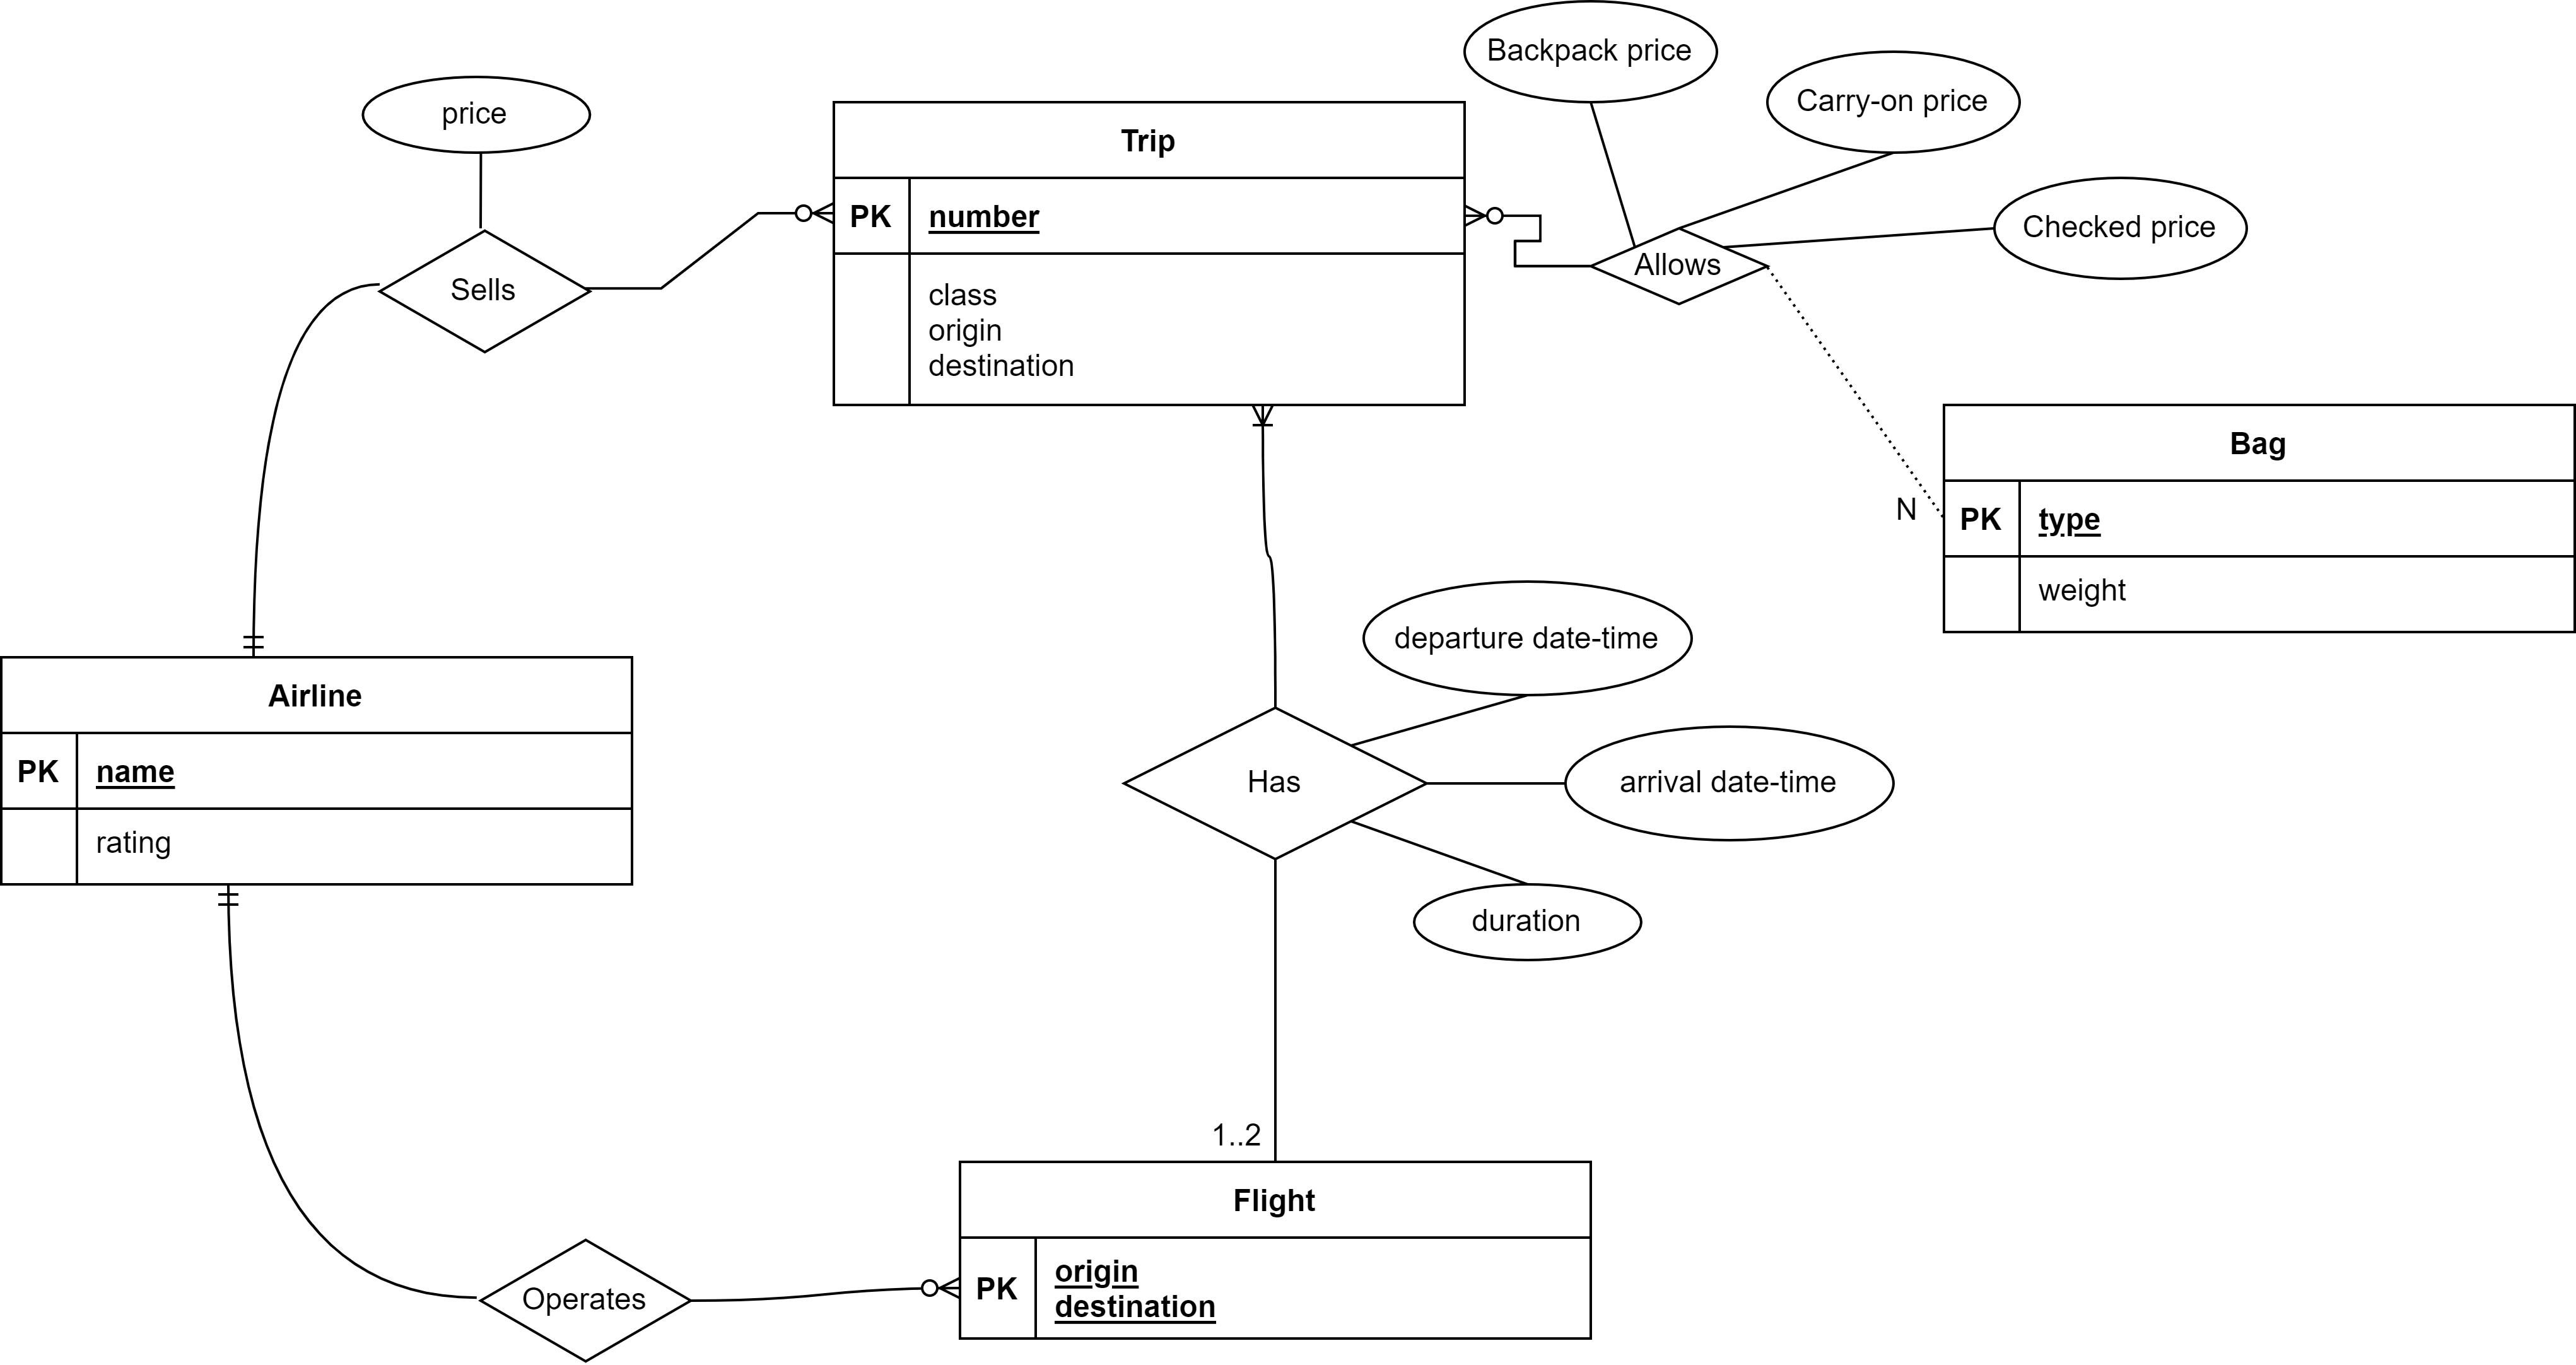attribute: (1564, 723, 1895, 842), (1366, 581, 1693, 697), (1765, 44, 2015, 155), (1463, 0, 1721, 106), (1997, 181, 2251, 283), (365, 77, 595, 155), (1409, 886, 1641, 963)
entity: (830, 95, 1470, 411), (0, 654, 634, 891), (1939, 404, 2574, 636), (956, 1155, 1595, 1339)
relationship: (1113, 707, 1426, 859), (482, 1239, 692, 1365), (380, 240, 586, 356), (1590, 230, 1770, 307)
